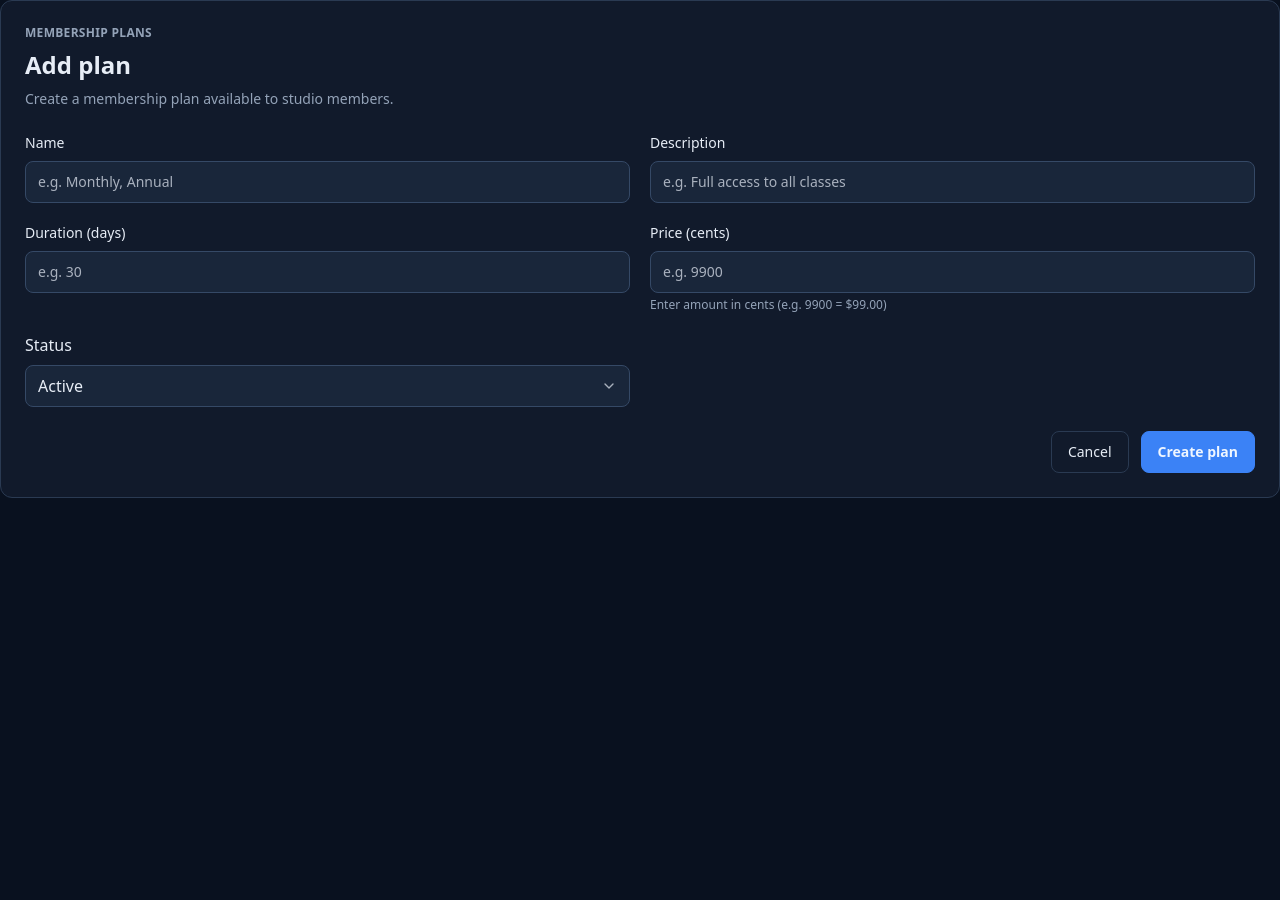
Test: CreateMembershipPlanForm › renders validation errors returned by the action
Click the button "Create plan" at (1198, 452), box [1140, 431, 1255, 473]
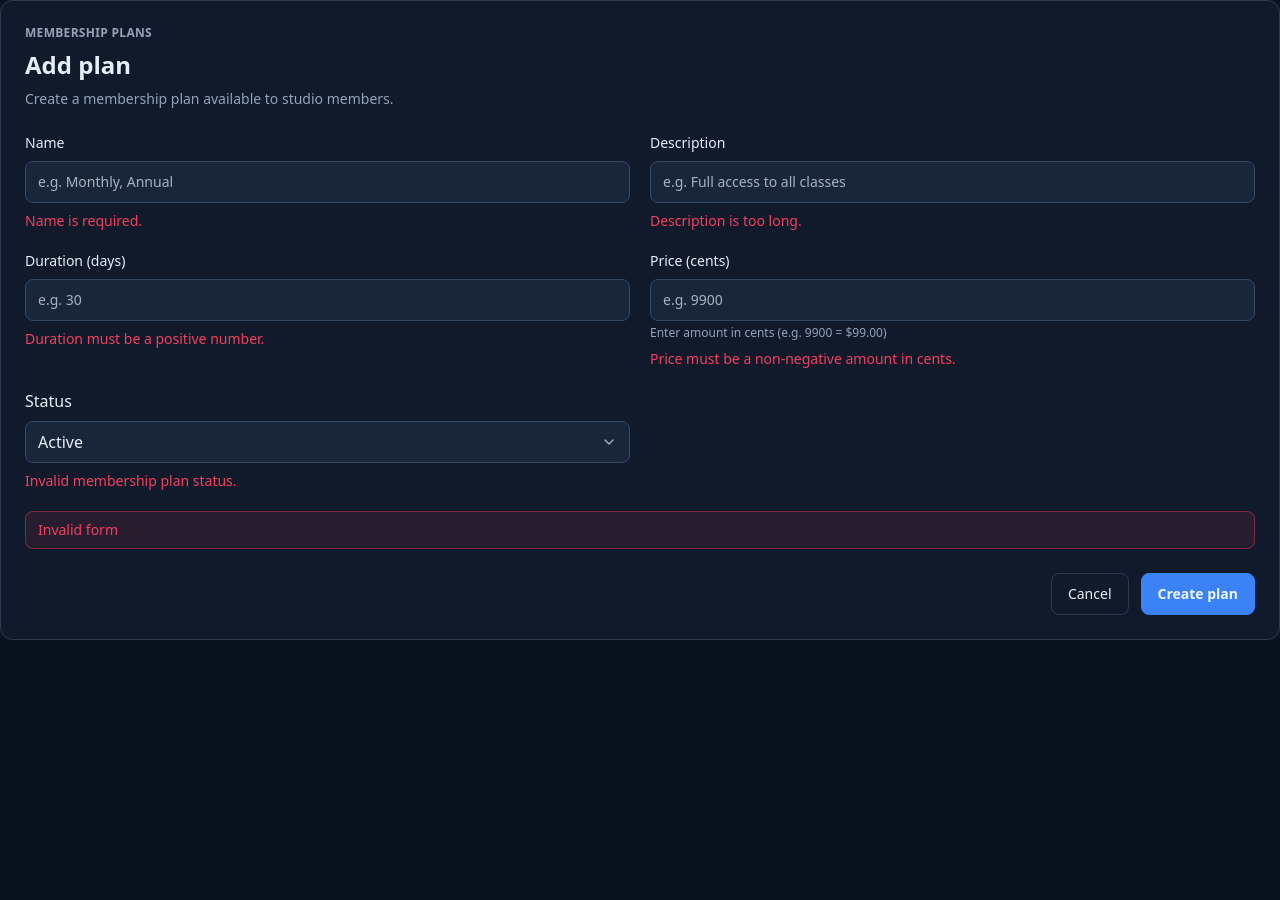
Expected: the text "Name is required." is shown, [25, 211, 142, 230]
Expected: the text "Description is too long." is shown, [650, 211, 802, 230]
Expected: the text "Duration must be a positive number." is shown, [25, 329, 264, 348]
